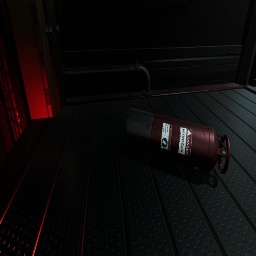NitrogenTank ,: (125, 108, 230, 174)
